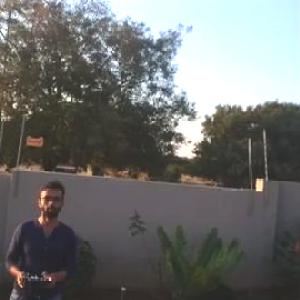follow: (0, 177, 79, 299)
